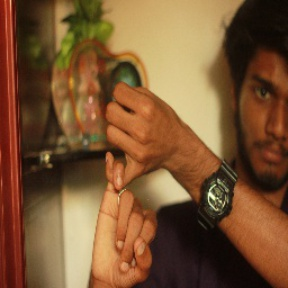S: (86, 80, 179, 287)
